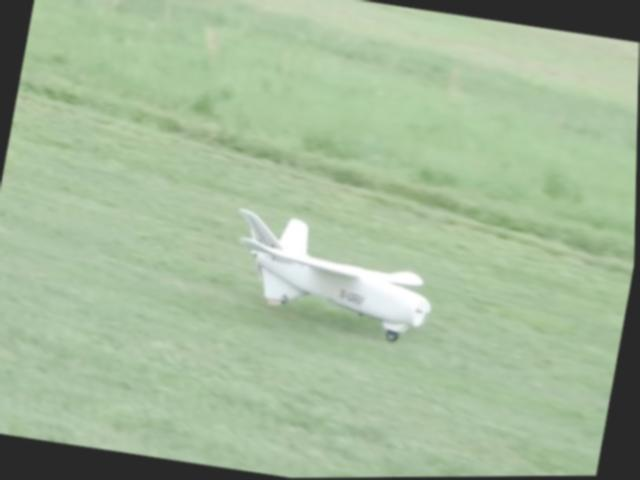uav: (219, 198, 448, 342)
